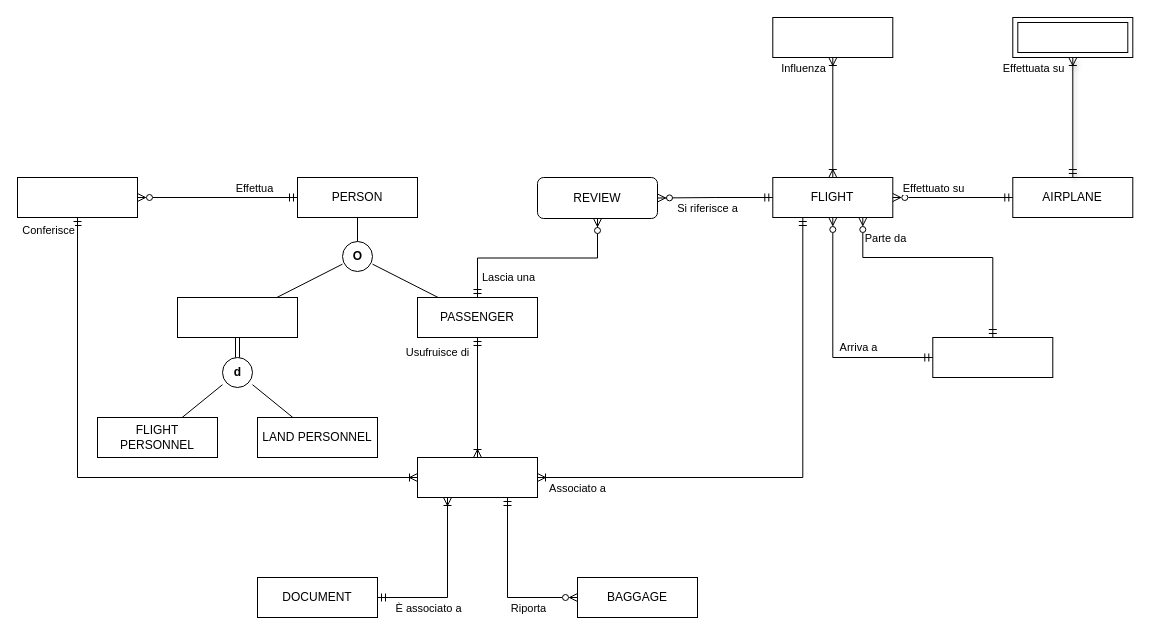
The diagram is 1151 pixels wide and 635 high, and some of its shapes have lost their labels. The centre of each missing label's shape, as x and y in pixels:
AIRPORT: pixel 992 357
BOOKING: pixel 77 197
EMPLOYEE: pixel 237 317
MAINTENANCE: pixel 1072 37
TICKET: pixel 477 477
WEATHER: pixel 832 37
